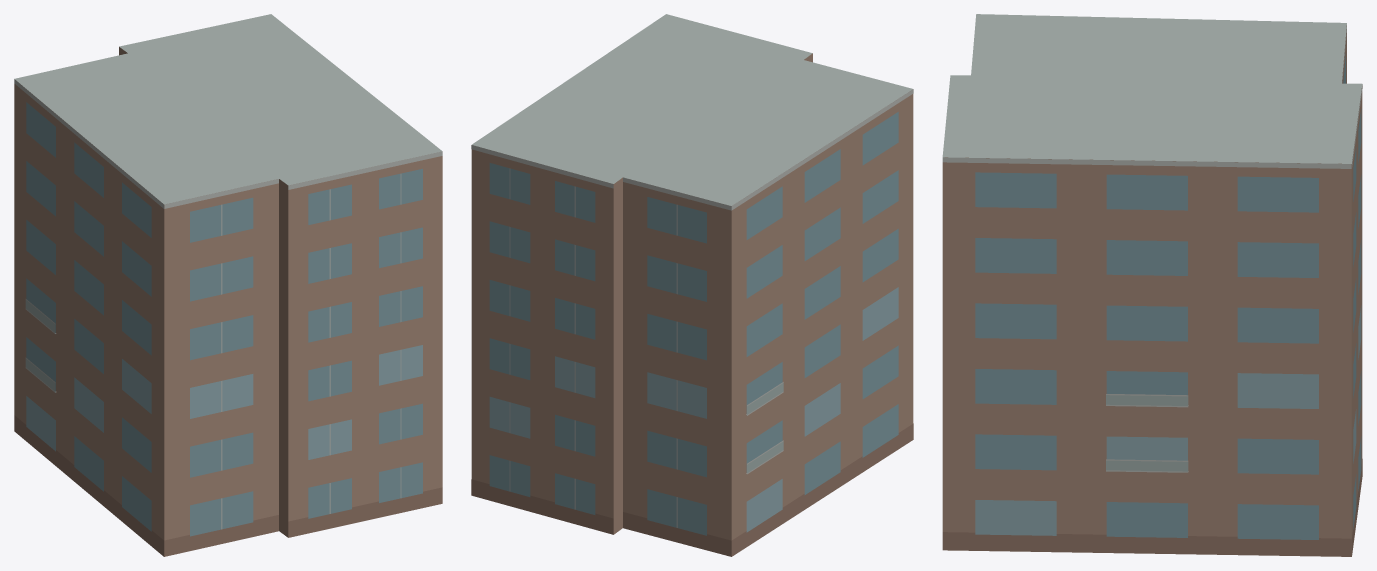
The model's file is survey-upis-33041708.glb.
3 views of the same model, side by side, from view 1: azimuth 30°, elevation 25°; view 2: azimuth 150°, elevation 25°; view 3: azimuth 270°, elevation 25° (orthographic). The views are drawn at different scales.
Visible parts, largest first — view 1: survey-upis-33041708.tmp; view 2: survey-upis-33041708.tmp; view 3: survey-upis-33041708.tmp.
Boxes of the visible parts, left/top/right/bottom form: survey-upis-33041708.tmp: left=14, top=14, right=442, bottom=556; survey-upis-33041708.tmp: left=471, top=14, right=913, bottom=556; survey-upis-33041708.tmp: left=942, top=14, right=1362, bottom=556.
Size of the model in its own units: 15.56 by 19 by 18.41.
